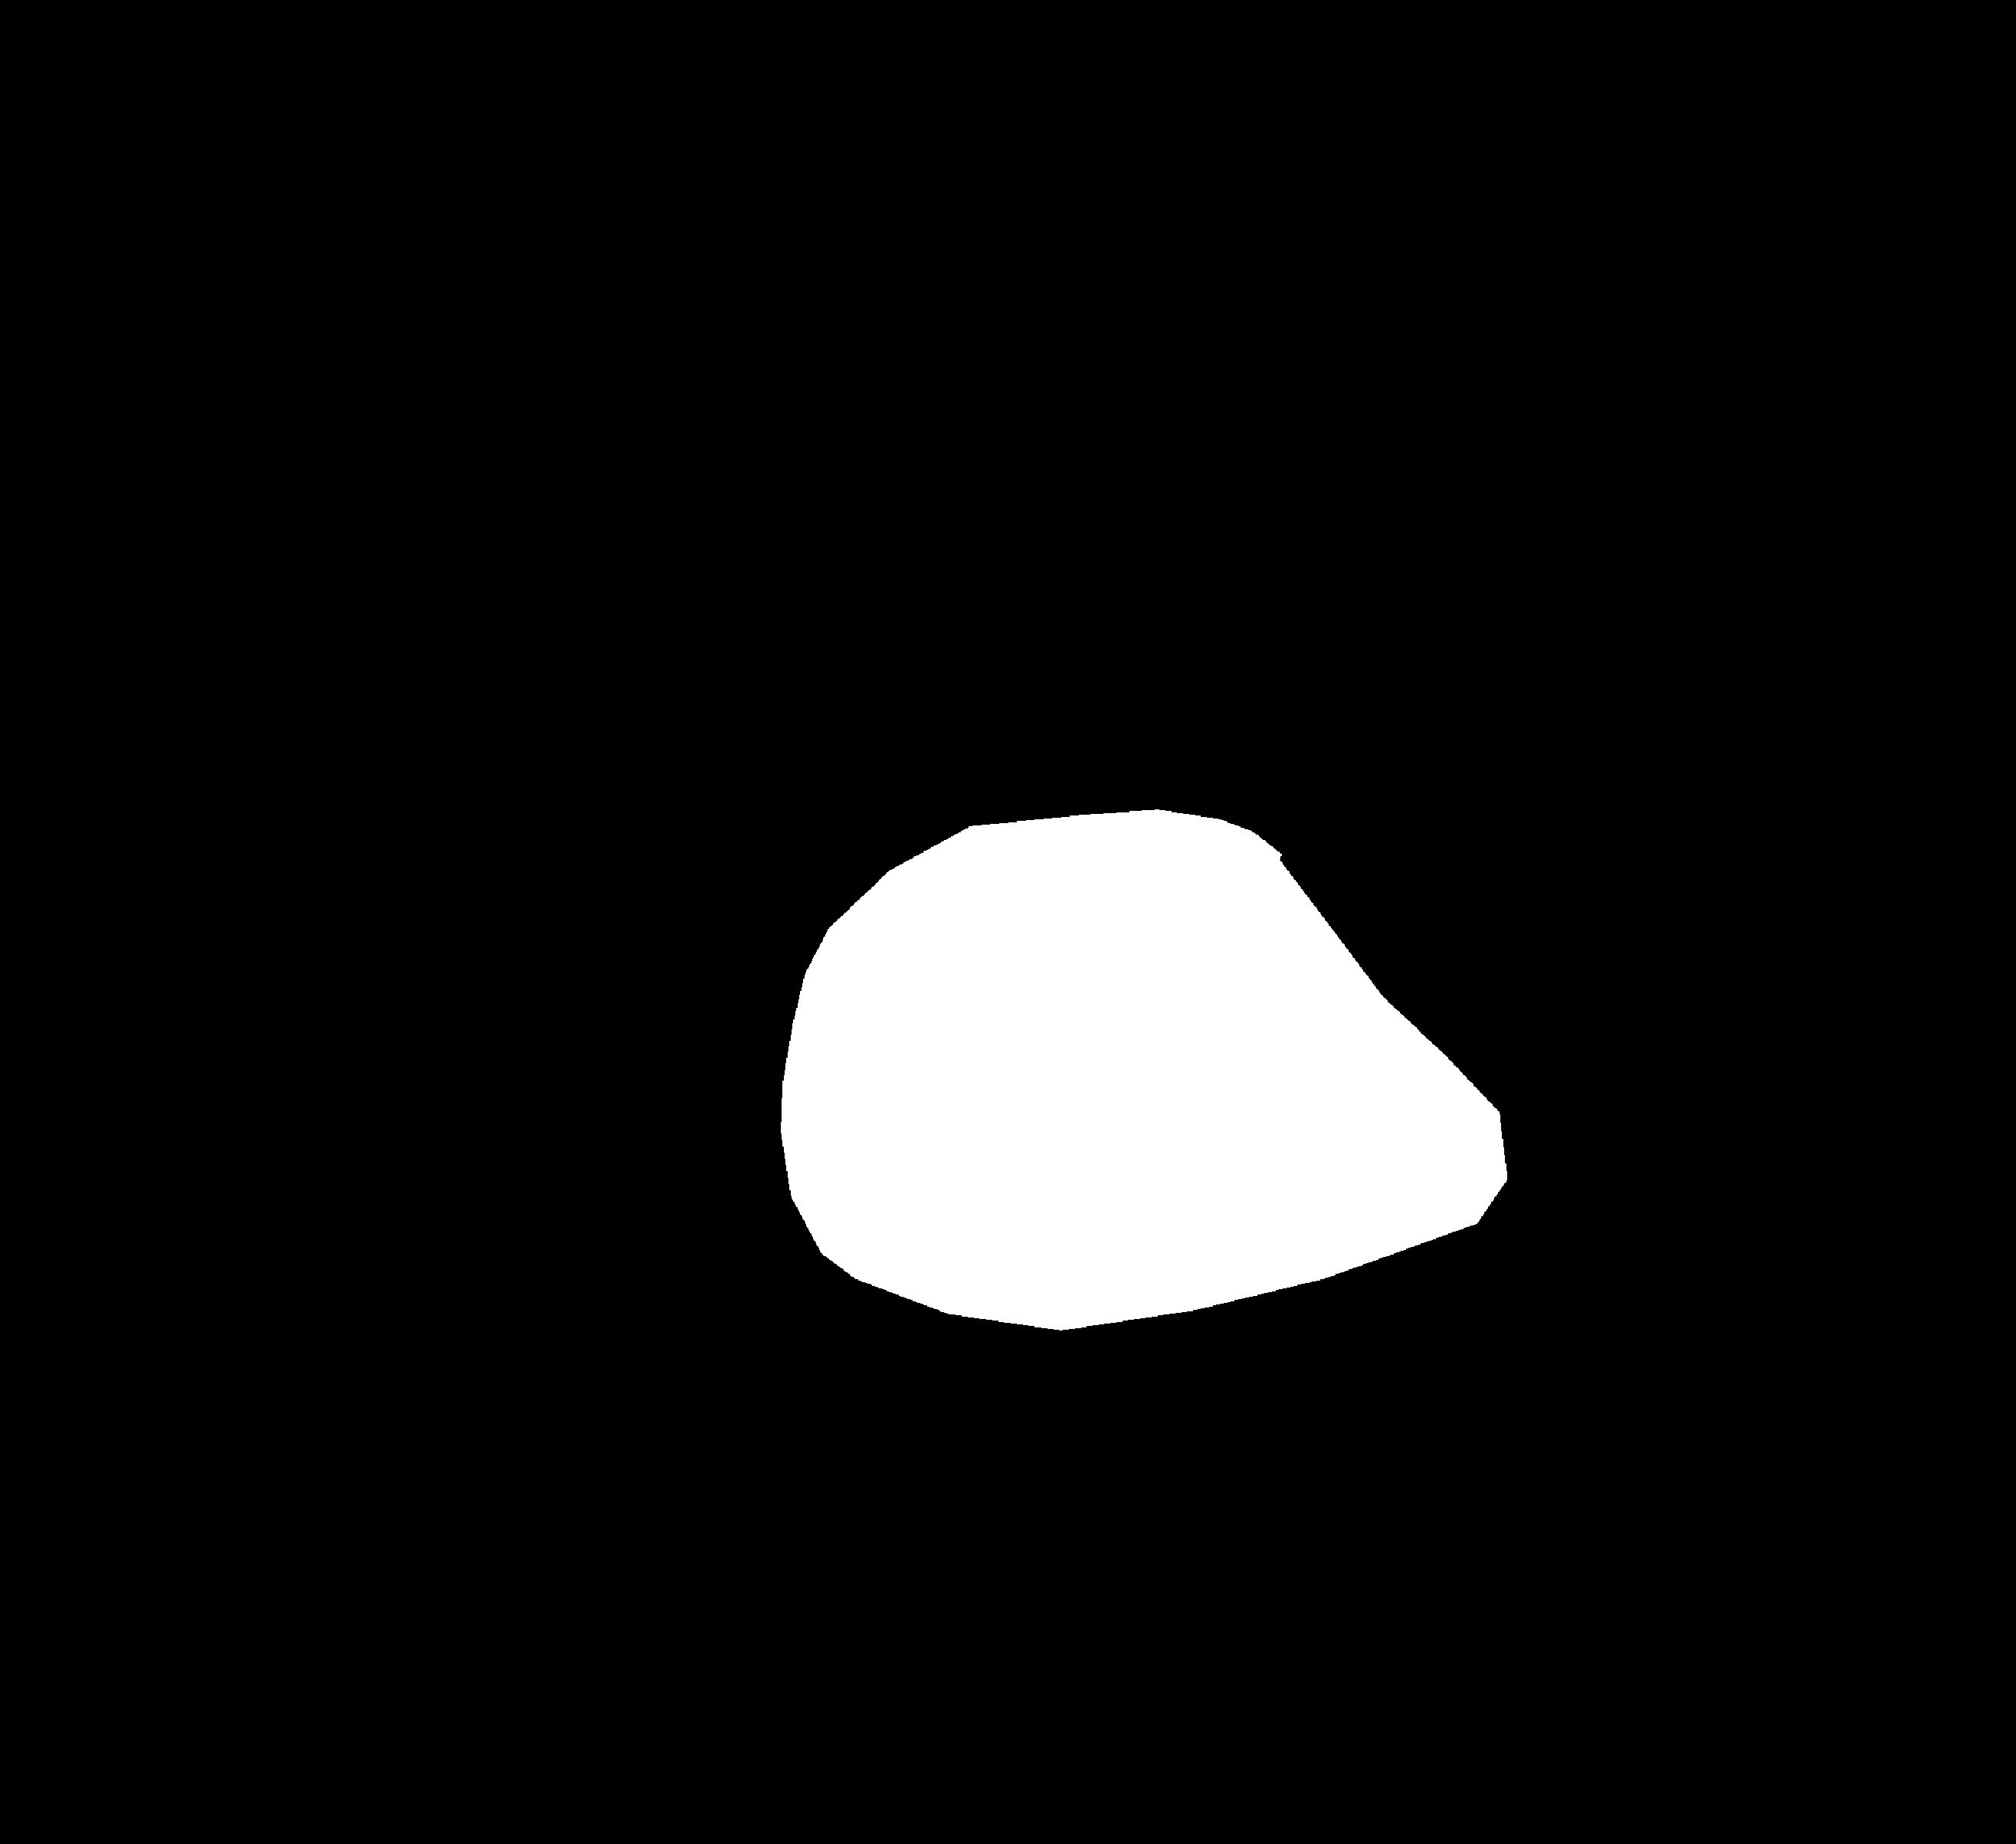heart: (788, 892, 1535, 1331)
left_lung: (234, 202, 941, 1444)
right_lung: (1078, 177, 1739, 1336)
